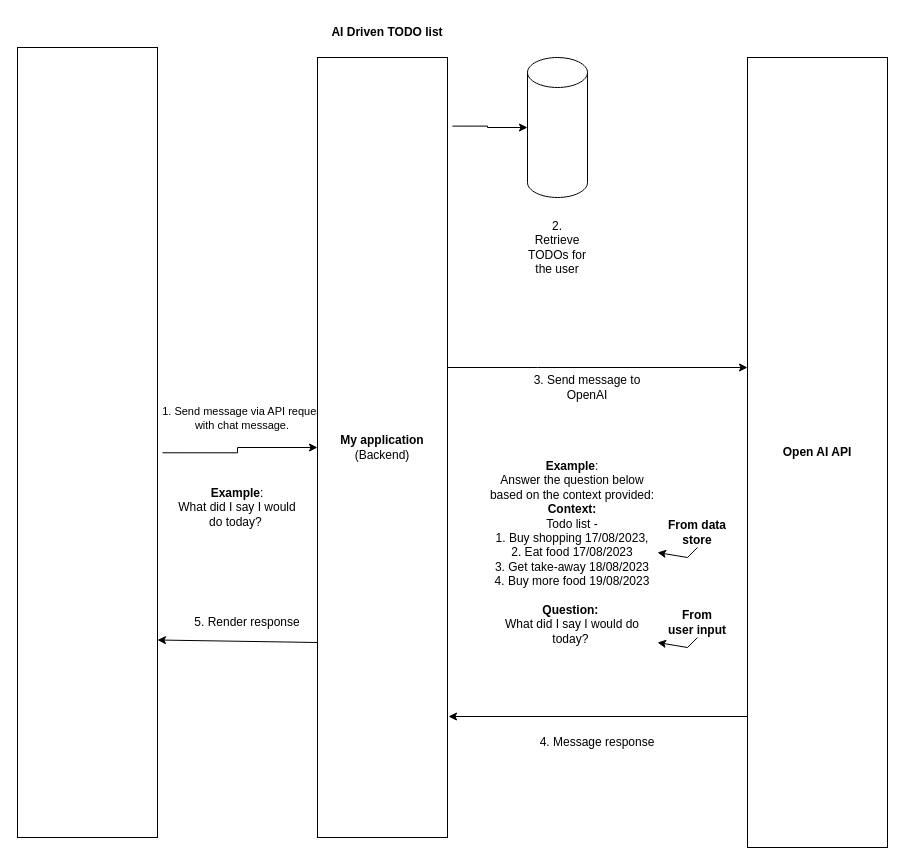
Some shapes in this 905 by 865 pixel diagram are drawn without their labels. Each missing label, with the centre of its shape:
"My application (Frontend)" goes at pixel 87 442.
"TODO List store" goes at pixel 557 127.
